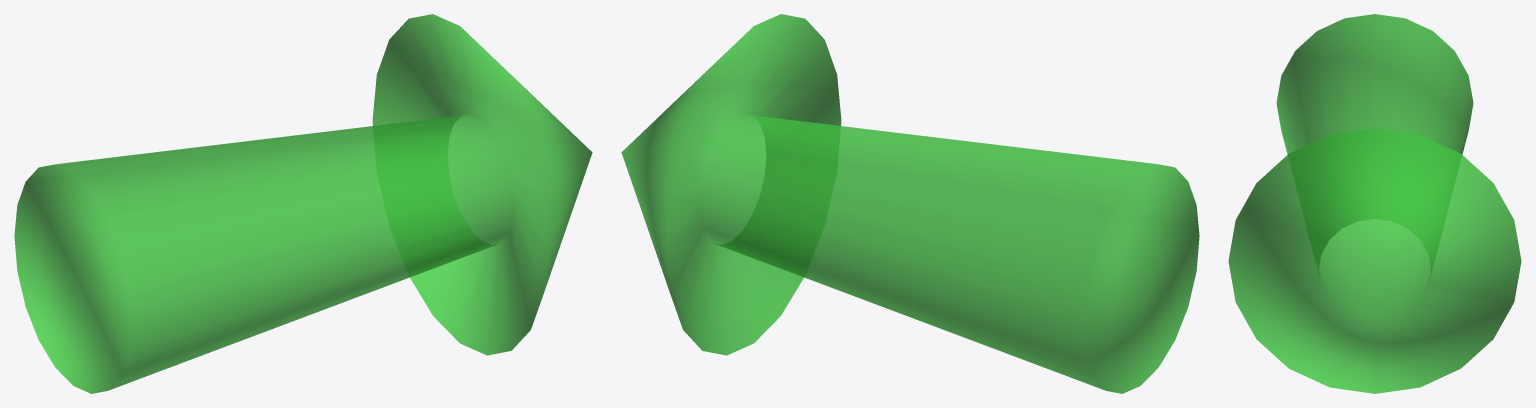
Rendered from arrow1.fbx.
3 views of the same model, side by side, from view 1: azimuth 30°, elevation 25°; view 2: azimuth 150°, elevation 25°; view 3: azimuth 270°, elevation 25° (orthographic). The views are drawn at different scales.
Parts seen in each view (by area): view 1: pCylinder1; view 2: pCylinder1; view 3: pCylinder1.
Part boxes in pixels (x1,y1,x2,y2): pCylinder1: (14, 14, 592, 393); pCylinder1: (621, 14, 1199, 393); pCylinder1: (1228, 14, 1521, 393).
Size of the model in its own units: 3.18 by 1.86 by 1.86.
